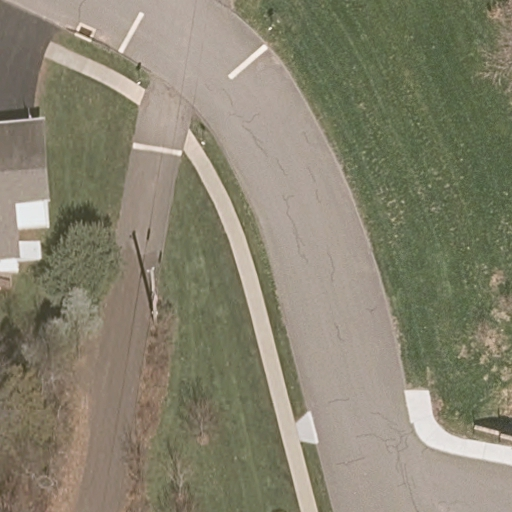DT: (143, 266, 161, 323)
